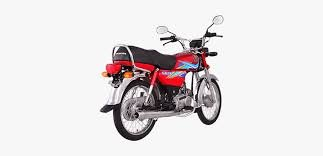motor: (110, 35, 224, 139)
